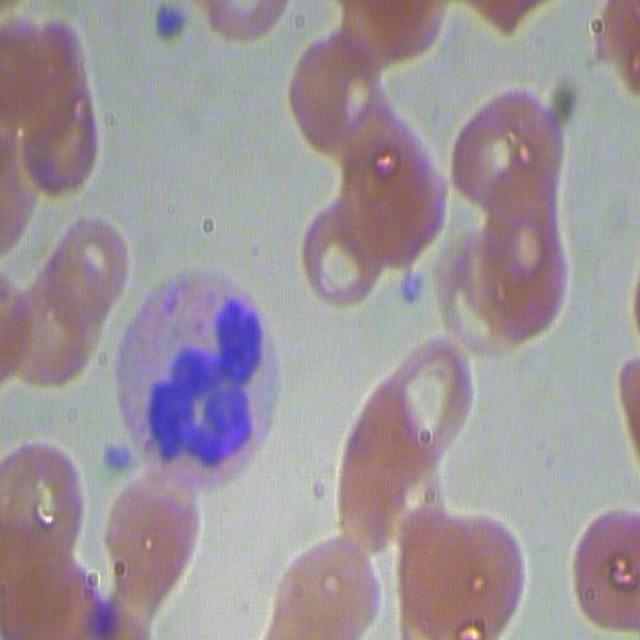RBC: (335, 380, 435, 564), (483, 166, 570, 335), (404, 509, 510, 640), (338, 130, 443, 257), (448, 90, 561, 198), (289, 36, 386, 154), (119, 474, 200, 612), (268, 537, 382, 632), (442, 243, 540, 347), (1, 438, 79, 552), (0, 22, 90, 114), (298, 200, 375, 303), (574, 508, 640, 628), (401, 338, 468, 456), (20, 291, 103, 383), (54, 224, 124, 322), (347, 0, 450, 63), (25, 112, 101, 188), (394, 451, 448, 541), (590, 1, 640, 90), (0, 108, 31, 250), (462, 0, 554, 44), (0, 279, 33, 395), (610, 352, 640, 476), (203, 0, 292, 41)
WBC: (126, 248, 288, 479)
platelets: (157, 6, 187, 46), (106, 438, 139, 473), (399, 269, 424, 308), (94, 597, 117, 634)
